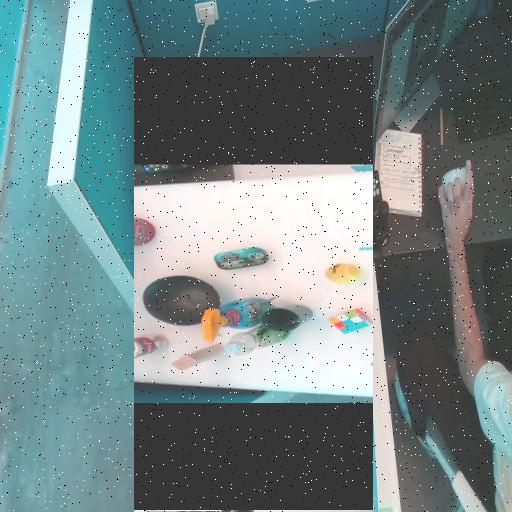bowl: (210, 186, 261, 237)
cleanser: (182, 254, 213, 319)
coffee_can: (291, 130, 320, 160)
jaco: (146, 402, 221, 511)
meat_can: (267, 244, 289, 298)
mug: (207, 291, 232, 341)
mustard_bottle: (246, 77, 266, 156)
rubik: (203, 368, 227, 392)
soup_can: (179, 144, 202, 197)
tennis_ball: (255, 357, 274, 391)
windex: (195, 232, 239, 298)
wooden_block: (166, 217, 192, 240)
workspace: (134, 171, 373, 398)
